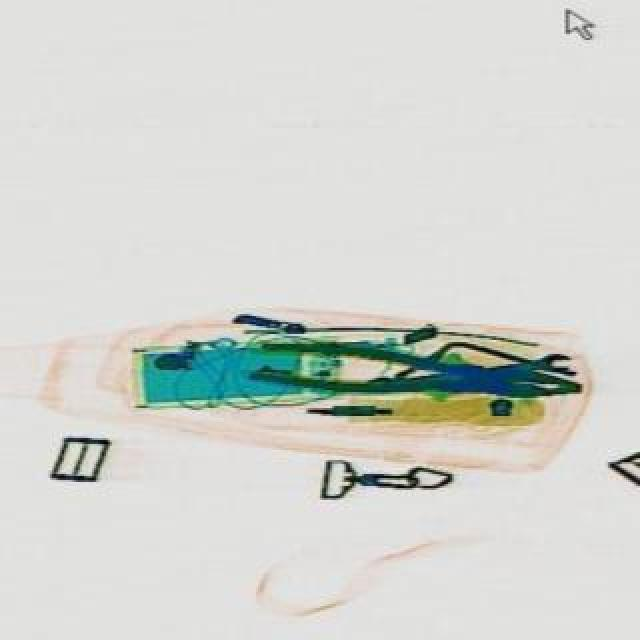scissors: (360, 348, 568, 400)
wrench: (244, 334, 580, 406)
